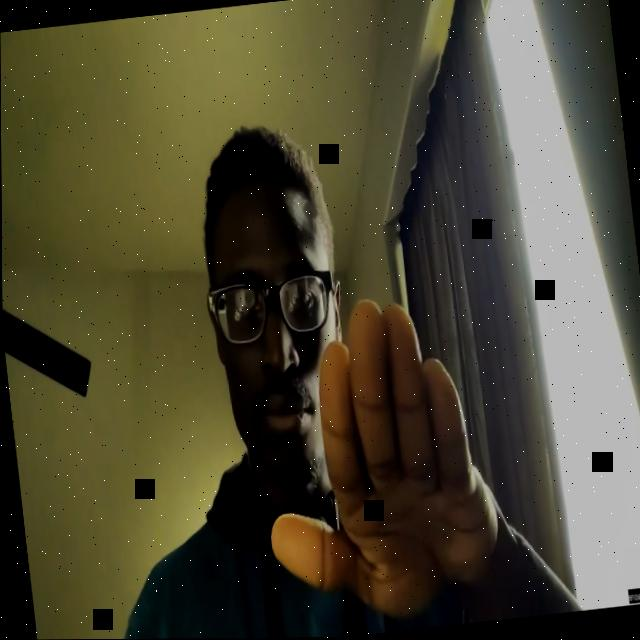Paper: (245, 285, 507, 631)
